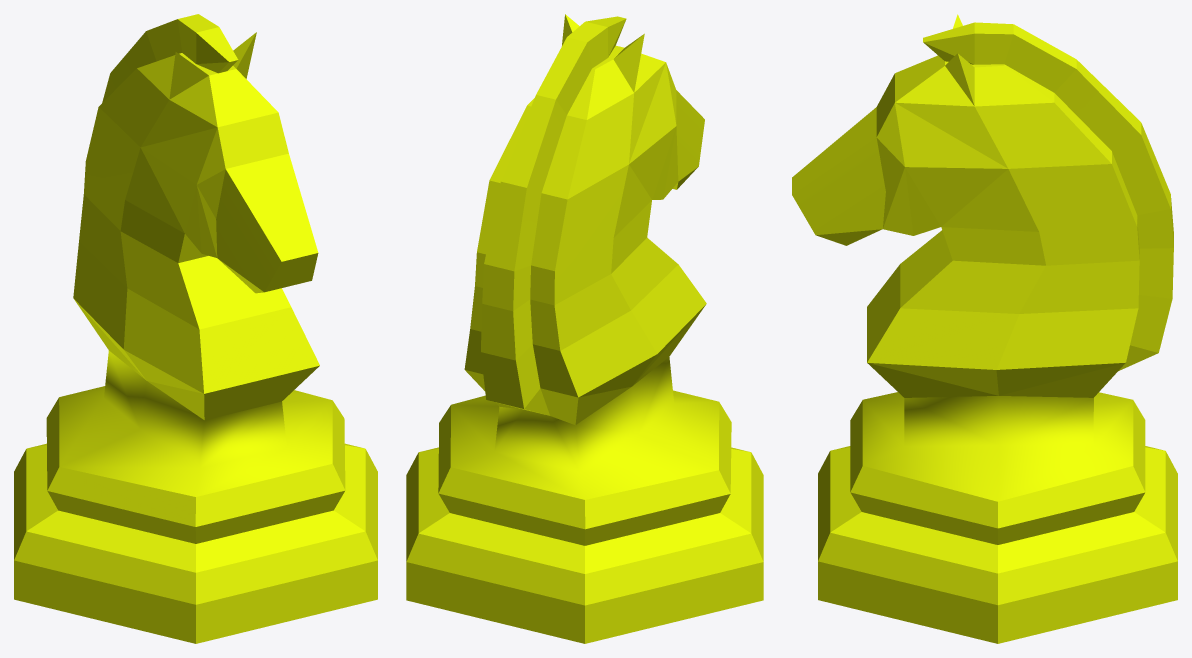
File: Yellow Knight.glb
The picture shows the model from 3 angles, left to right: view 1: azimuth 30°, elevation 25°; view 2: azimuth 150°, elevation 25°; view 3: azimuth 270°, elevation 25°; orthographic projection.
Visible parts, largest first — view 1: Knight; view 2: Knight; view 3: Knight.
Part boxes in pixels (left/top/right/bottom): Knight: left=14, top=14, right=377, bottom=643; Knight: left=406, top=14, right=763, bottom=643; Knight: left=792, top=14, right=1177, bottom=643.
Size of the model in its own units: 0.8957 by 1.26 by 0.8316.
